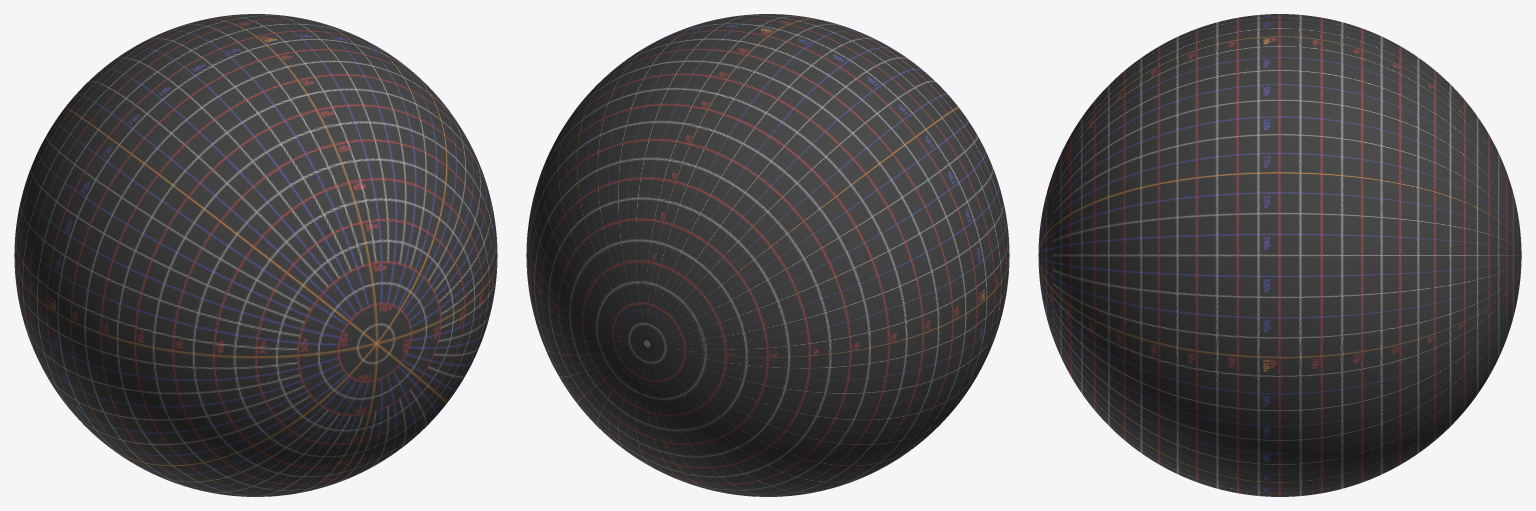
The model's file is domefull.dae.
The picture shows the model from 3 angles, left to right: view 1: azimuth 30°, elevation 25°; view 2: azimuth 150°, elevation 25°; view 3: azimuth 270°, elevation 25°; orthographic projection.
Parts seen in each view (by area): view 1: DomeModel; view 2: DomeModel; view 3: DomeModel.
Part boxes in pixels (x1,y1,x2,y2): DomeModel: [14, 14, 497, 496]; DomeModel: [526, 14, 1009, 496]; DomeModel: [1038, 14, 1521, 496].
Size of the model in its own units: 10000 by 10000 by 9999.
1 material, 1 textured.
